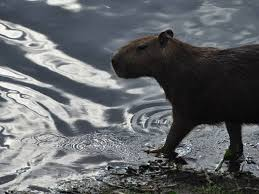capivara: (111, 28, 259, 171)
